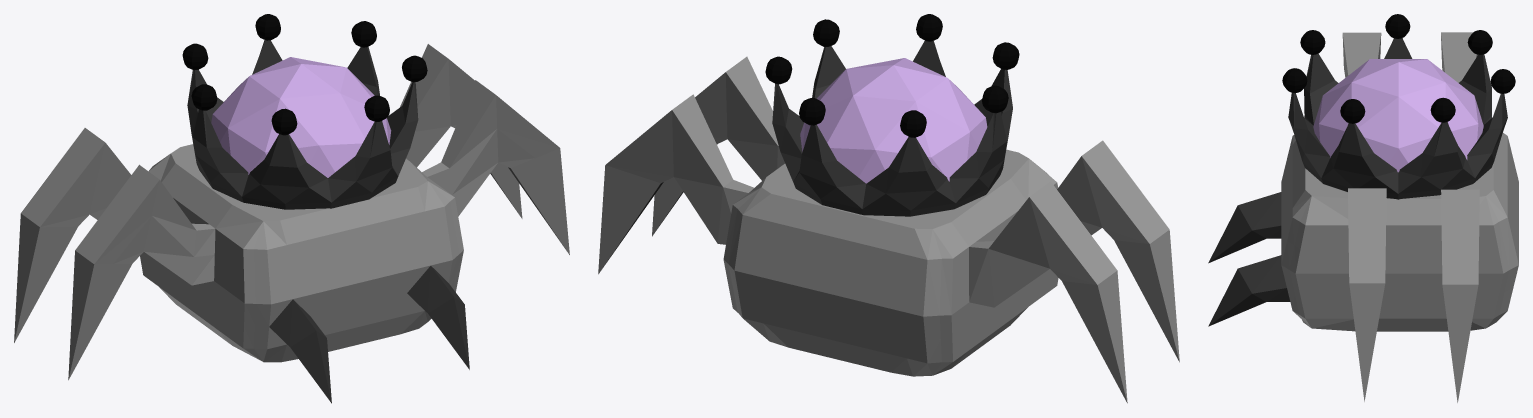
File: boss_rdy.dae
The picture shows the model from 3 angles, left to right: view 1: azimuth 30°, elevation 25°; view 2: azimuth 150°, elevation 25°; view 3: azimuth 270°, elevation 25°; orthographic projection. The views are drawn at different scales.
Visible parts, largest first — view 1: Sphere_006_Sphere_006; view 2: Sphere_006_Sphere_006; view 3: Sphere_006_Sphere_006.
Part boxes in pixels (x1,y1,x2,y2): Sphere_006_Sphere_006: [14, 14, 569, 403]; Sphere_006_Sphere_006: [598, 14, 1179, 403]; Sphere_006_Sphere_006: [1208, 14, 1518, 402].
Size of the model in its own units: 7.55 by 4.25 by 3.57.
